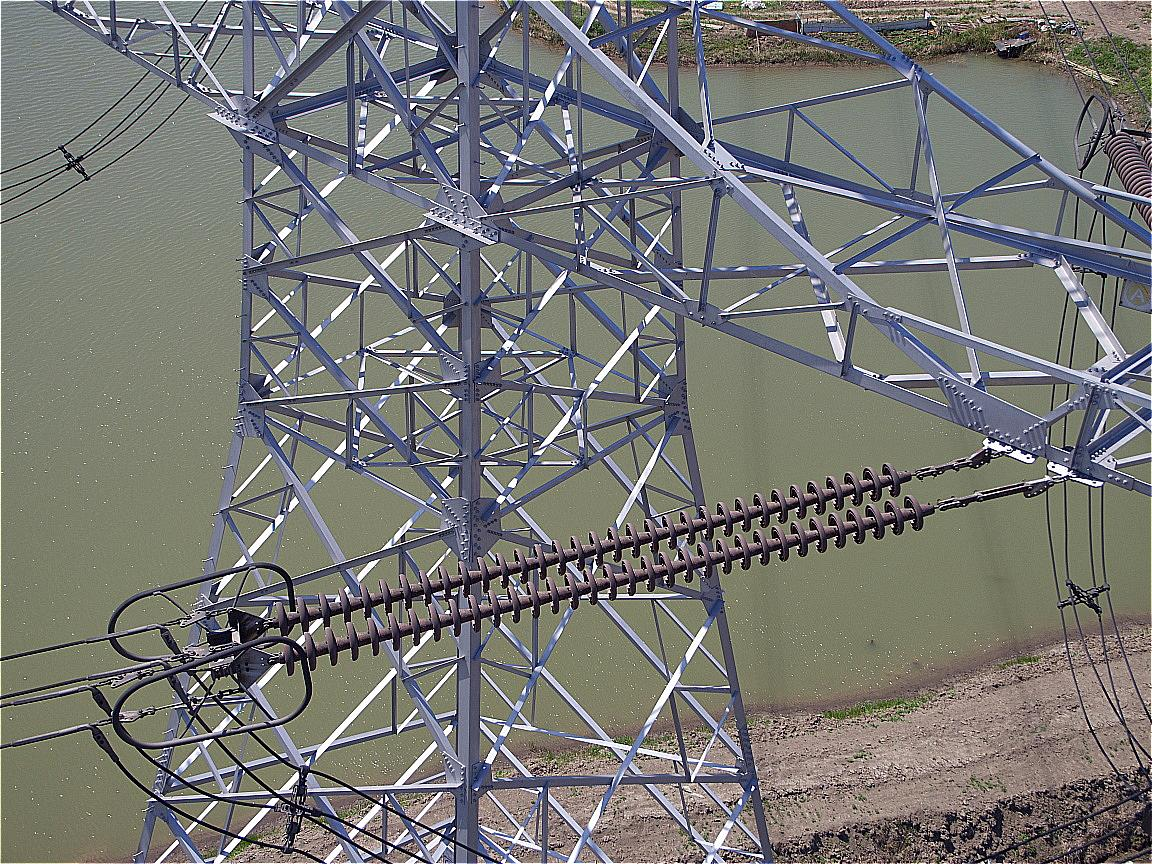insultor1: (277, 463, 924, 675)
